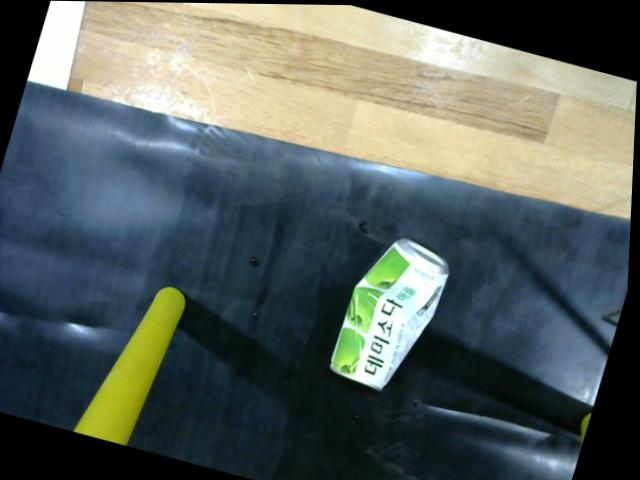can: (332, 231, 458, 397)
